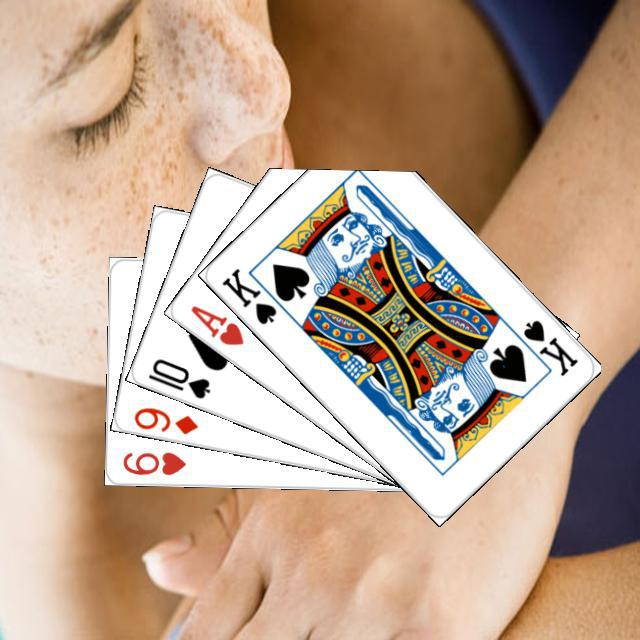10s: (143, 353, 212, 401)
6h: (118, 447, 188, 477)
9d: (129, 402, 200, 436)
Ah: (185, 300, 246, 348)
Ks: (506, 315, 580, 378), (217, 262, 279, 326)
